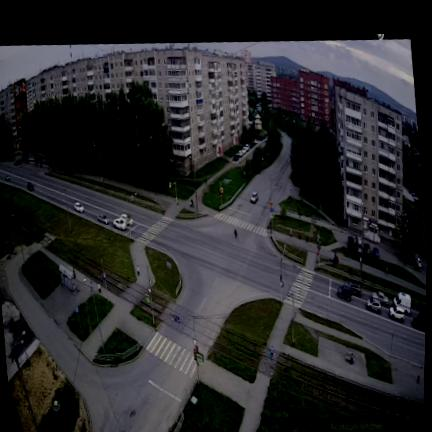bench: (346, 351, 355, 363)
busStop: (59, 265, 78, 293)
busStopSign: (76, 307, 82, 332), (103, 271, 108, 300)
car: (393, 291, 412, 314), (345, 281, 361, 297), (337, 285, 352, 301), (373, 291, 388, 306), (390, 307, 405, 322), (367, 299, 381, 313), (413, 317, 425, 330), (113, 218, 126, 230), (120, 214, 133, 225), (98, 214, 109, 225), (75, 202, 85, 213), (348, 236, 354, 249), (251, 192, 258, 203), (364, 243, 370, 255), (420, 309, 425, 320), (28, 182, 34, 191), (374, 248, 379, 258)
garbageBin: (416, 376, 420, 383)
human: (270, 346, 274, 359), (334, 253, 338, 264), (98, 283, 101, 293), (91, 282, 94, 292), (351, 354, 354, 364), (335, 255, 338, 264), (191, 199, 194, 207), (234, 230, 237, 237), (290, 228, 292, 237), (137, 266, 139, 275), (386, 267, 388, 275), (306, 236, 307, 243), (299, 233, 300, 239)
lightPole: (90, 281, 105, 353), (93, 142, 104, 188), (63, 183, 71, 232), (196, 190, 199, 211)
pedestianCross: (147, 332, 196, 377), (215, 213, 267, 236), (287, 268, 316, 307), (139, 217, 172, 244)
sign: (166, 262, 171, 272)
trafficLight: (193, 338, 204, 383), (280, 246, 286, 301), (146, 289, 155, 324), (269, 178, 274, 233), (169, 182, 178, 206), (317, 234, 321, 266), (219, 182, 222, 209)
truck: (357, 235, 362, 253)
